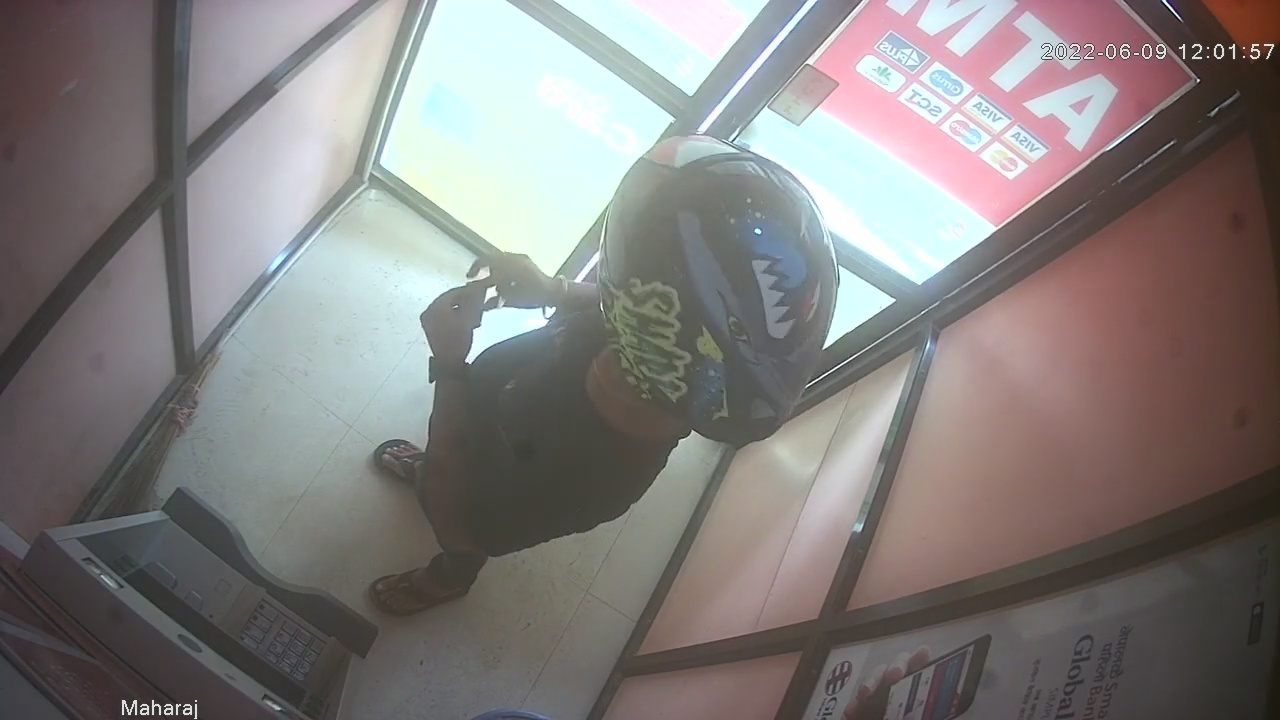helmet: (595, 131, 836, 447)
person: (370, 131, 839, 620)
